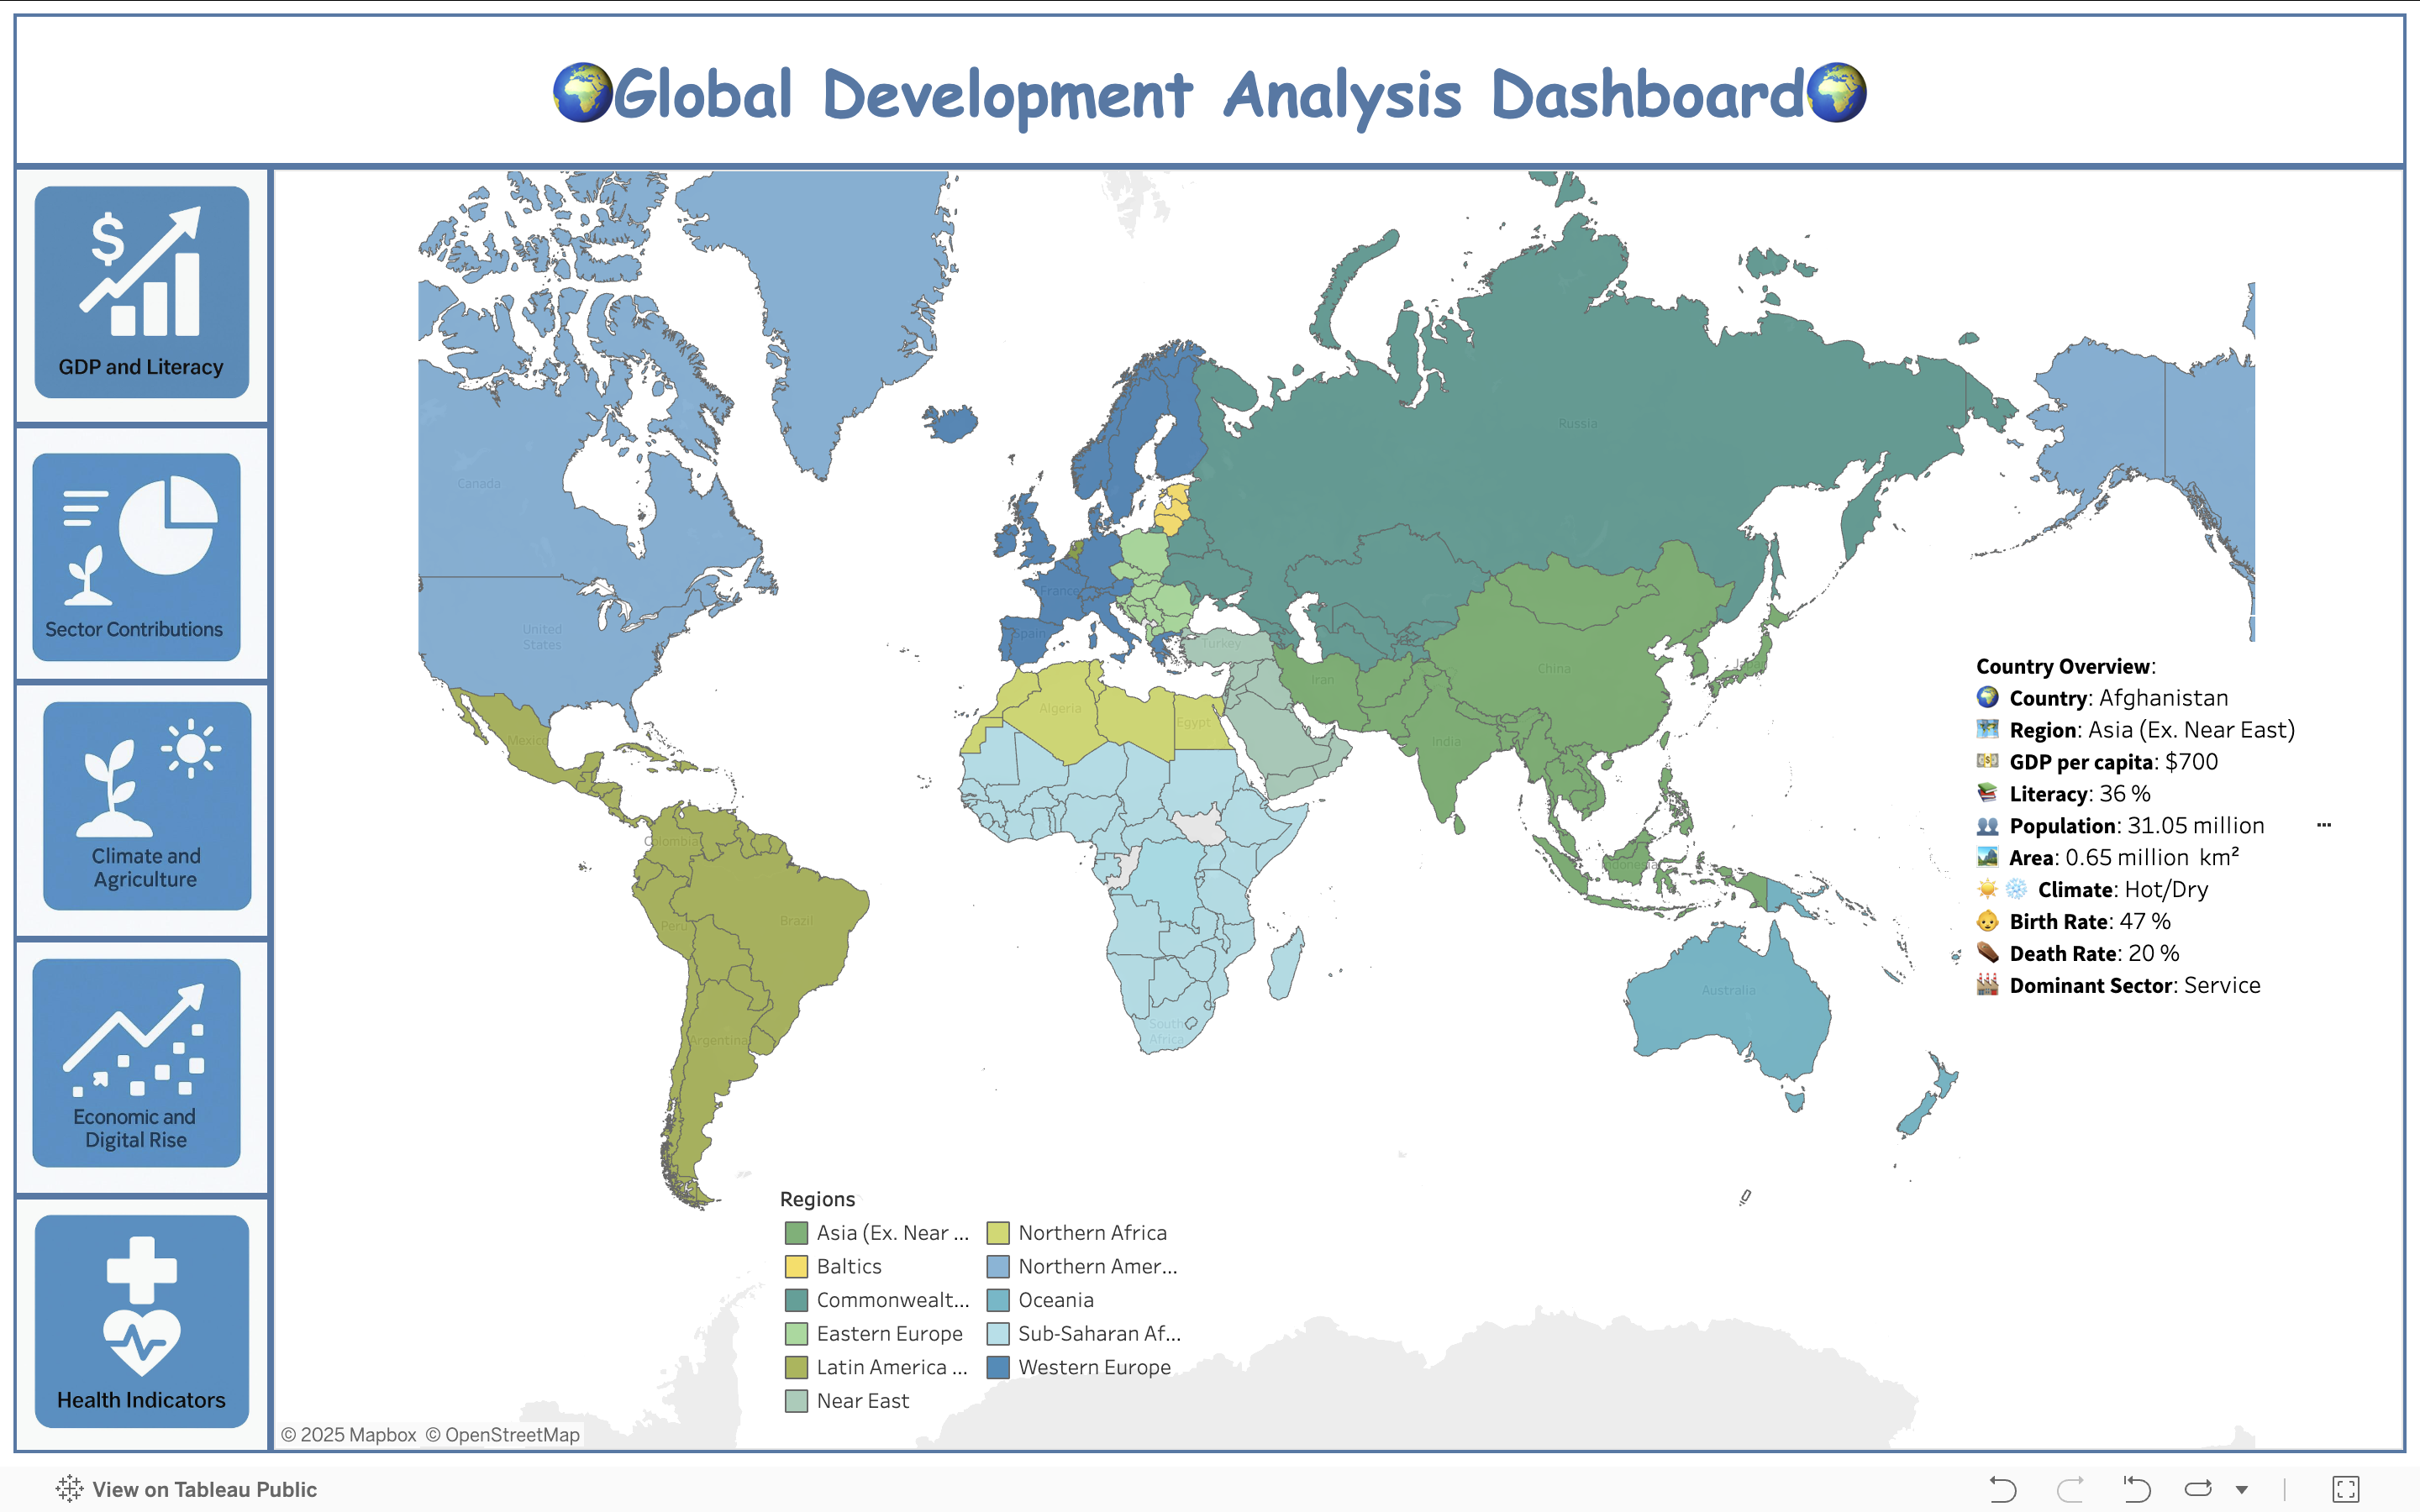

Layout of this report page (visuals, bound fields, positions):
{"tool":"tableau","page":{"name":"D1-Overview","canvas":[1000,1000],"units":"permille","ordinal":0},"visuals":[{"type":"text","box":[6.4,11.8,987.2,103.8]},{"type":"dashboard-object","box":[6.4,115.4,106.7,174.6]},{"type":"worksheet","title":"Overview_map","mark":"Multipolygon","box":[112.8,115.7,880.8,872.5]},{"type":"dashboard-object","box":[6.4,289.9,106.7,174.6]},{"type":"worksheet","title":"KPI1-overview","mark":"Automatic","box":[810.2,418.8,175.5,403.6]},{"type":"dashboard-object","box":[6.4,464.5,106.7,174.6]},{"type":"dashboard-object","box":[6.4,639.1,106.7,174.6]},{"type":"legend","title":"Overview_map","param":"[federated.1jd3lyw0j6hafg0znkj9u0xqlb94].[none:Region (copy)_1058345980859199488","box":[322.5,807.7,405.1,159.5]},{"type":"dashboard-object","box":[6.4,813.6,106.7,174.6]}]}

Visuals, with their boxes on the dashboard's canvas, which has no fixed pixel size, in thousandths of its width and height (x1, y1, x2, y2). These are canvas units, not pixel positions in the 2420x1512 screenshot, which may show the page scaled, cropped or inside an application window:
text: bbox(6, 12, 994, 116)
dashboard-object: bbox(6, 115, 113, 290)
"Overview_map" worksheet (Multipolygon marks): bbox(113, 116, 994, 988)
dashboard-object: bbox(6, 290, 113, 464)
"KPI1-overview" worksheet: bbox(810, 419, 986, 822)
dashboard-object: bbox(6, 464, 113, 639)
dashboard-object: bbox(6, 639, 113, 814)
"Overview_map" legend: bbox(322, 808, 728, 967)
dashboard-object: bbox(6, 814, 113, 988)
